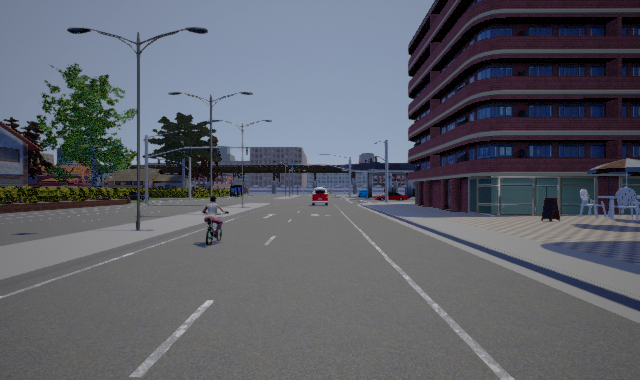bike: (202, 195, 230, 245)
vehicle: (374, 192, 409, 202), (311, 187, 329, 206)
